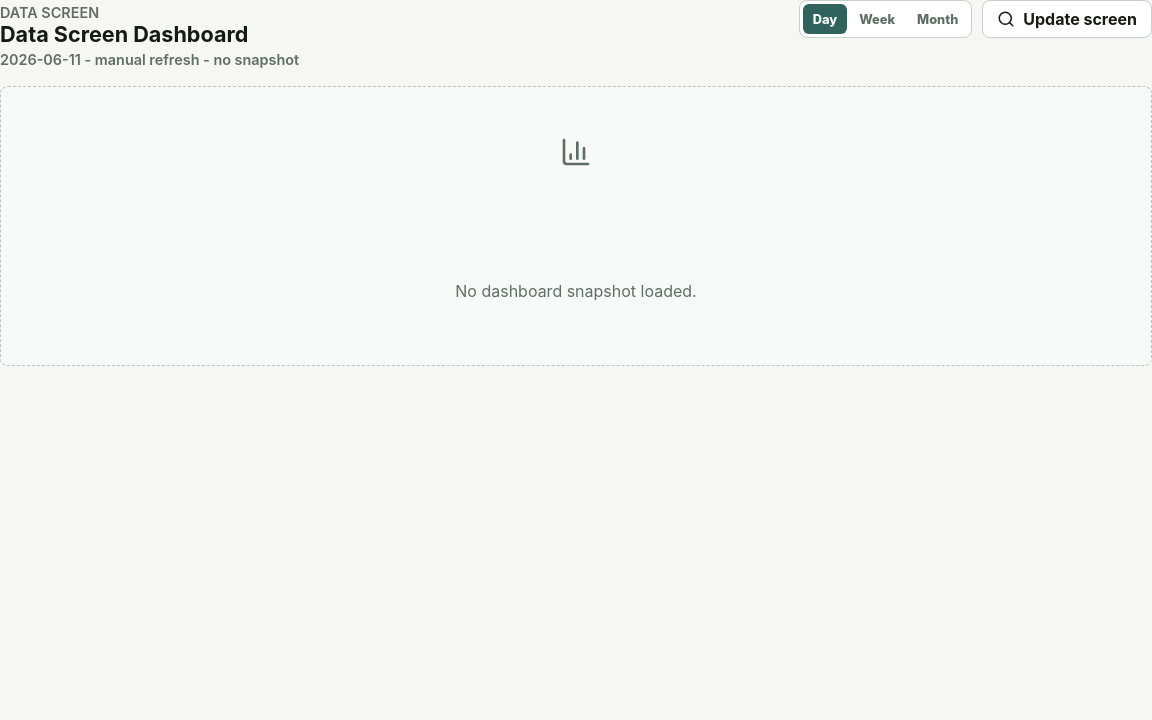
it: DataScreen › loads the selected period only after the next manual update
Click the button "Week".
click(877, 19)  # box [849,4,905,34]
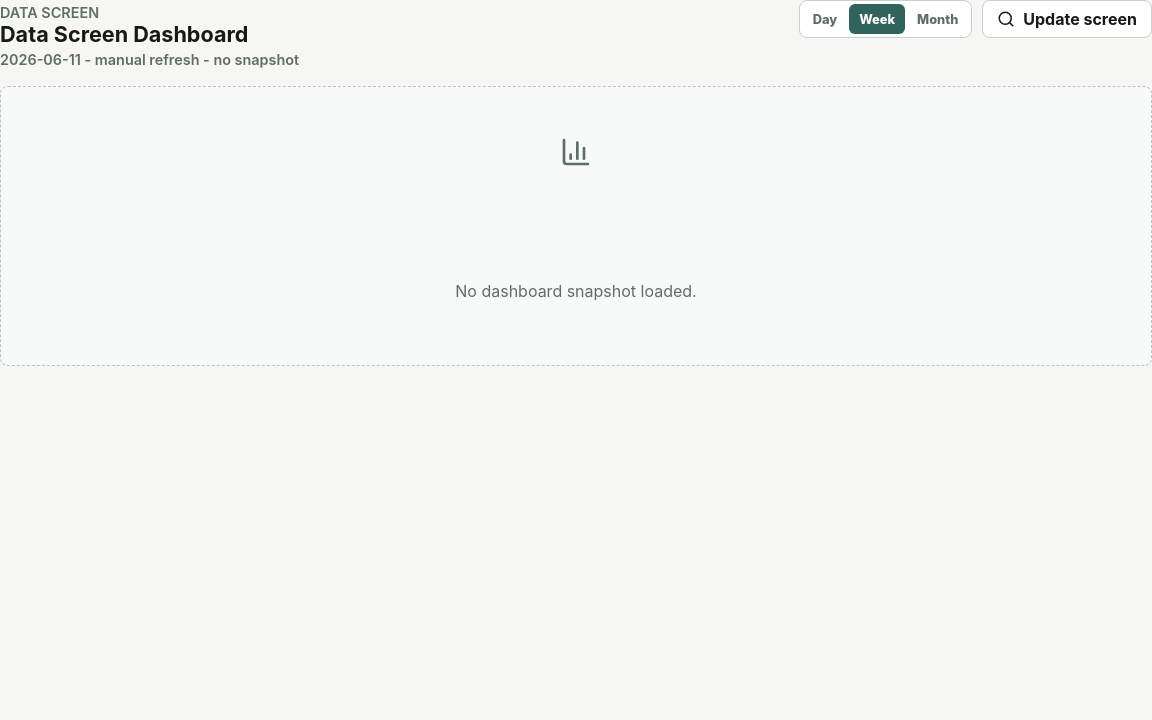
Click the button "Update screen".
click(1067, 19)  # box [982,0,1151,38]
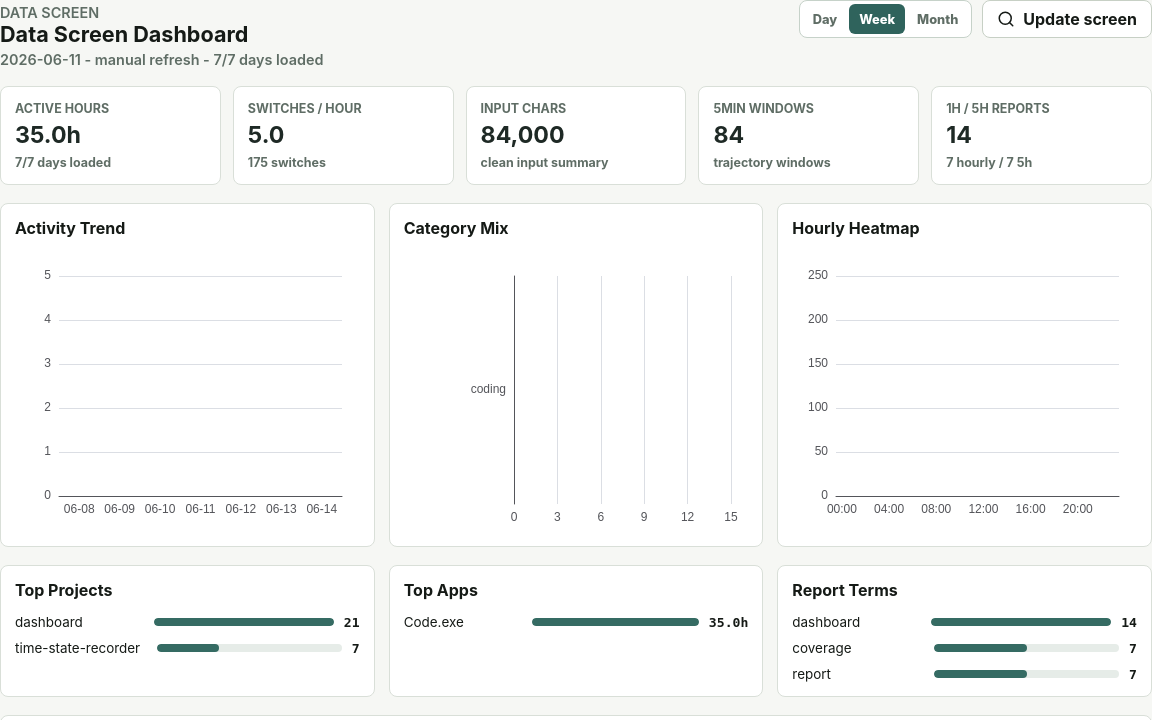
Check: the text "7/7 days loaded" is shown, box [15,155,111,170]
